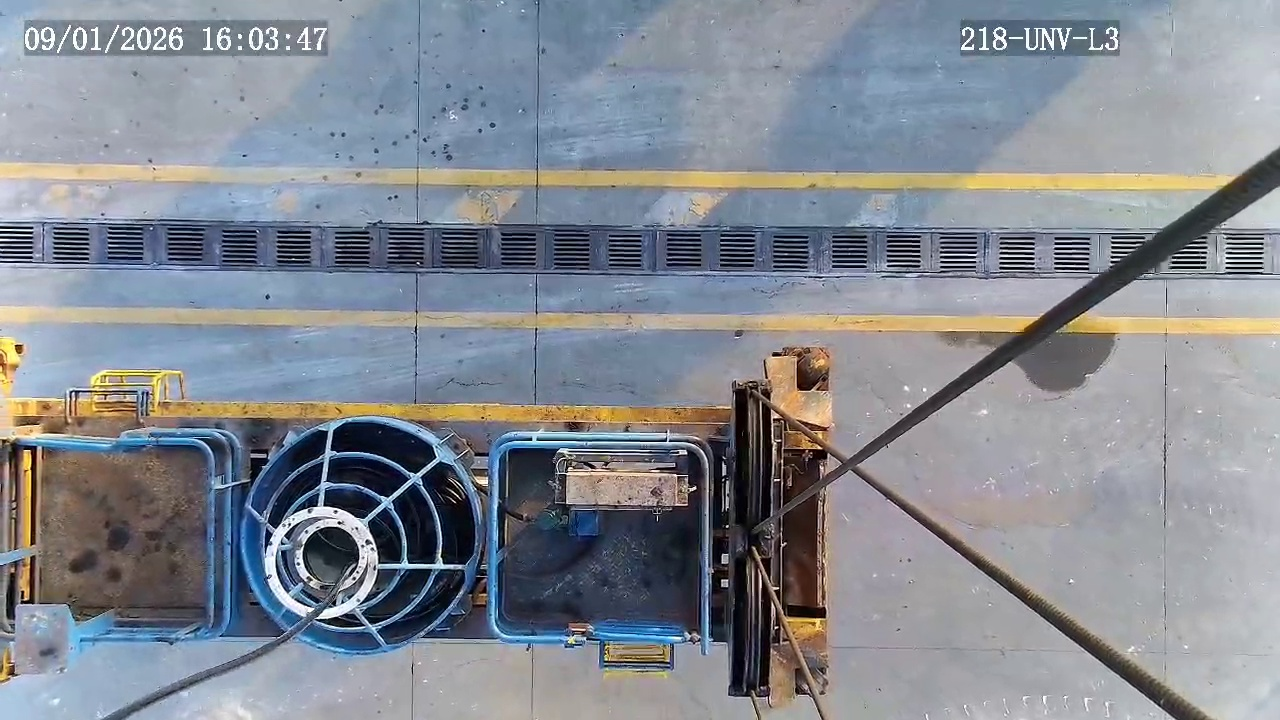right: (239, 417, 479, 653)
